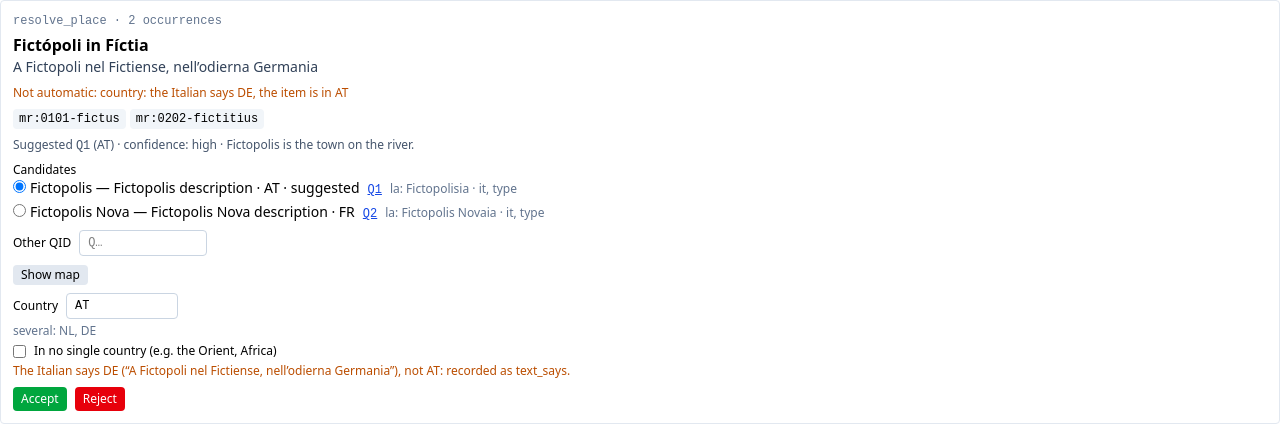
Test: PlaceCard › typed countries: a repeated or invalid code disables accept; a claim outside them is shown
The width and height of the screenshot is (1280, 441).
Replace the text in the field labelled "Country" with "AT, AT" at (122, 306), box x1=66 y1=293 x2=178 y2=319
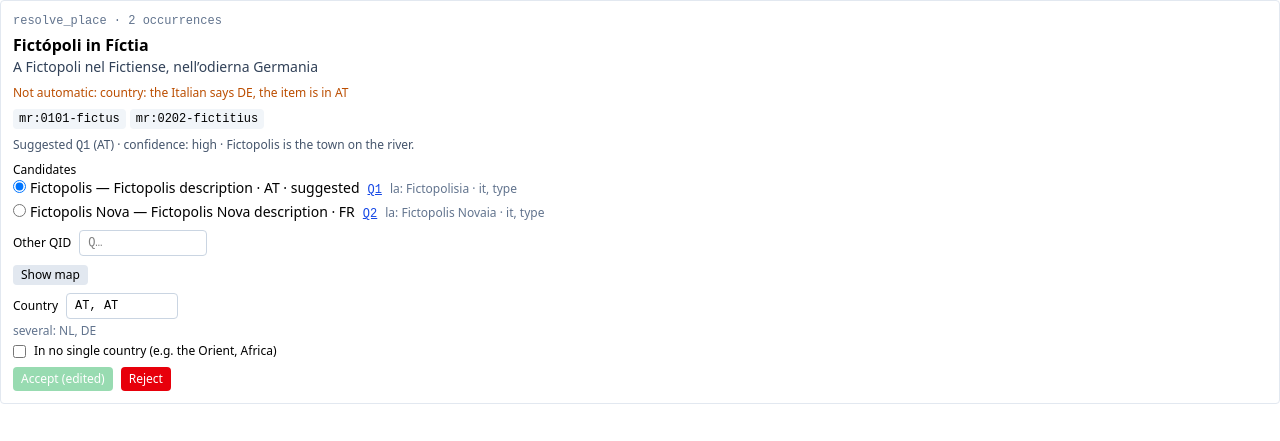
Now the button "Accept (edited)" is disabled, box x1=13 y1=367 x2=113 y2=391
Replace the text in the field labelled "Country" with "AT, XYZ" at (122, 306), box x1=66 y1=293 x2=178 y2=319
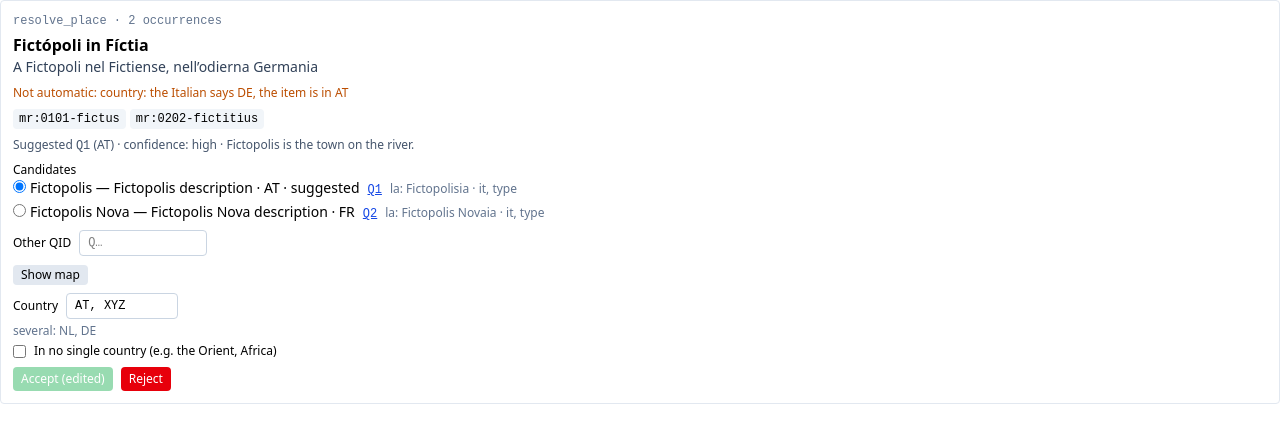
Now the button "Accept (edited)" is disabled, box x1=13 y1=367 x2=113 y2=391
Replace the text in the field labelled "Country" with "at, it" at (122, 306), box x1=66 y1=293 x2=178 y2=319
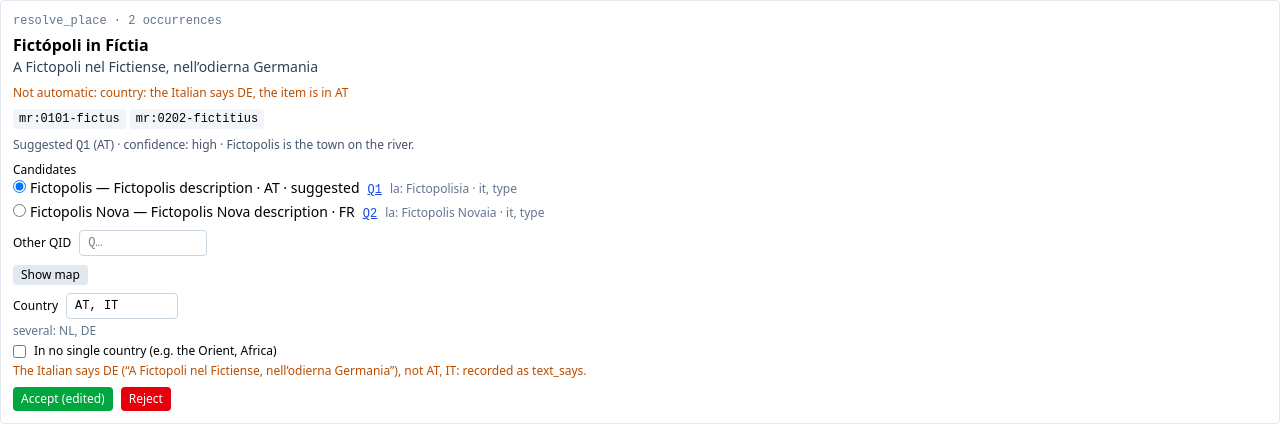
Now the button "Accept (edited)" is enabled, box x1=13 y1=387 x2=113 y2=411
